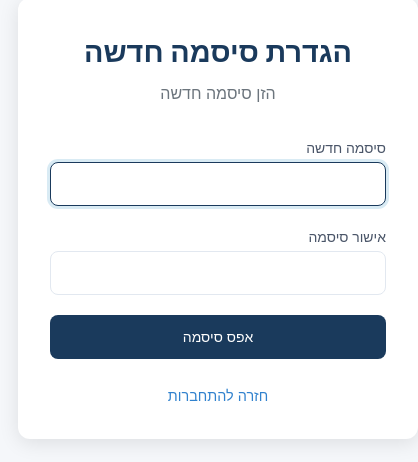
Test case: ResetPassword Page › should show success message after reset
Type "newpass123" into the password field labelled "סיסמה חדשה" at [218, 184], box [50, 162, 386, 206]
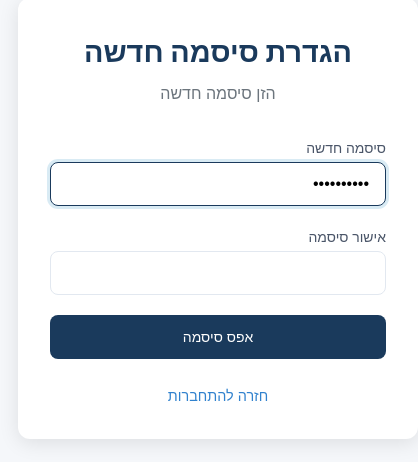
Type "newpass123" into the password field labelled "אישור סיסמה" at [218, 273], box [50, 251, 386, 295]
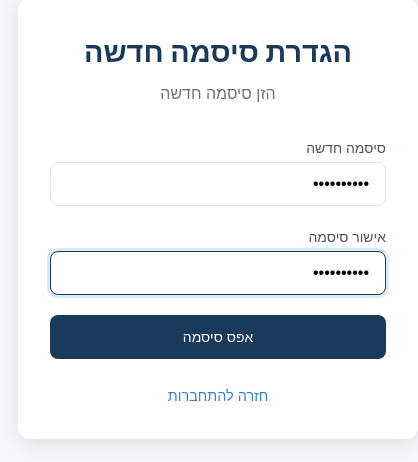
Click the button "אפס סיסמה" at [218, 337], box [50, 315, 386, 359]
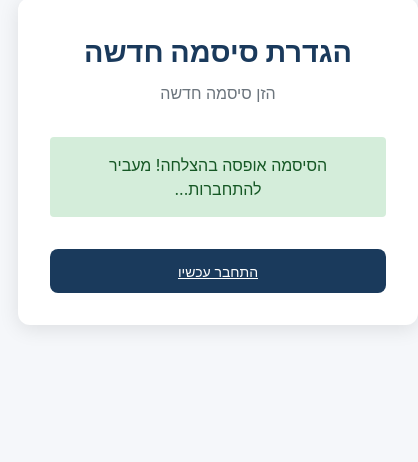
Now the text "הסיסמה אופסה בהצלחה! מעביר להתחברות..." is shown, box [50, 137, 386, 217]
